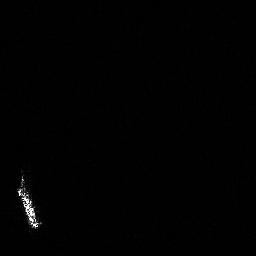ship: (11, 173, 44, 231)
